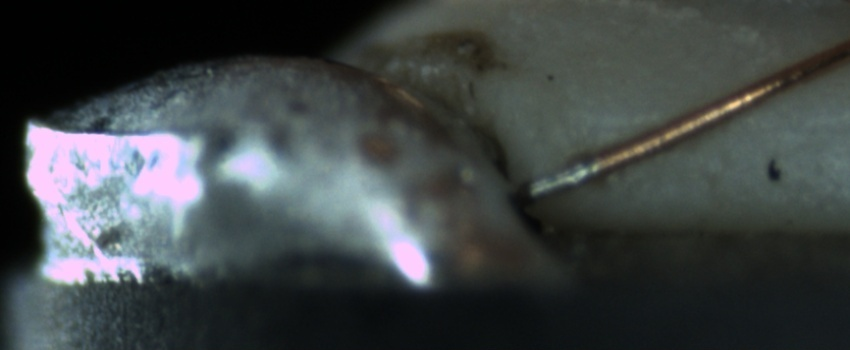DL: (563, 89, 842, 153)
TS: (519, 155, 599, 201)
TTCW: (515, 144, 616, 202)
